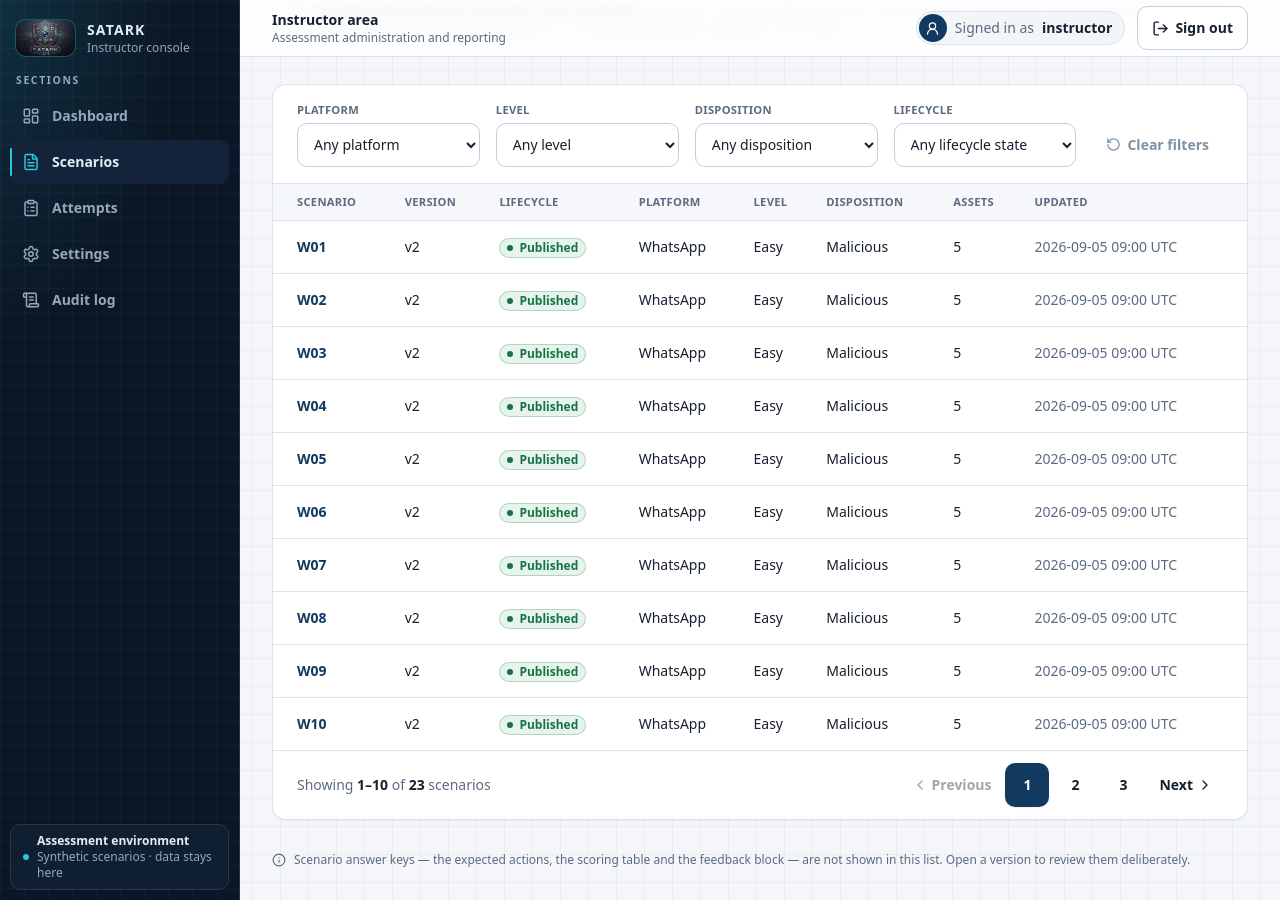
Test: scenarios › moves by number and by Next, and stops at the last page
The width and height of the screenshot is (1280, 900).
(page scrolled)
Expected: the table is shown, [273,184,1247,750]
Click the button named "Page 2" at (1076, 785), box [1054,763,1098,807]
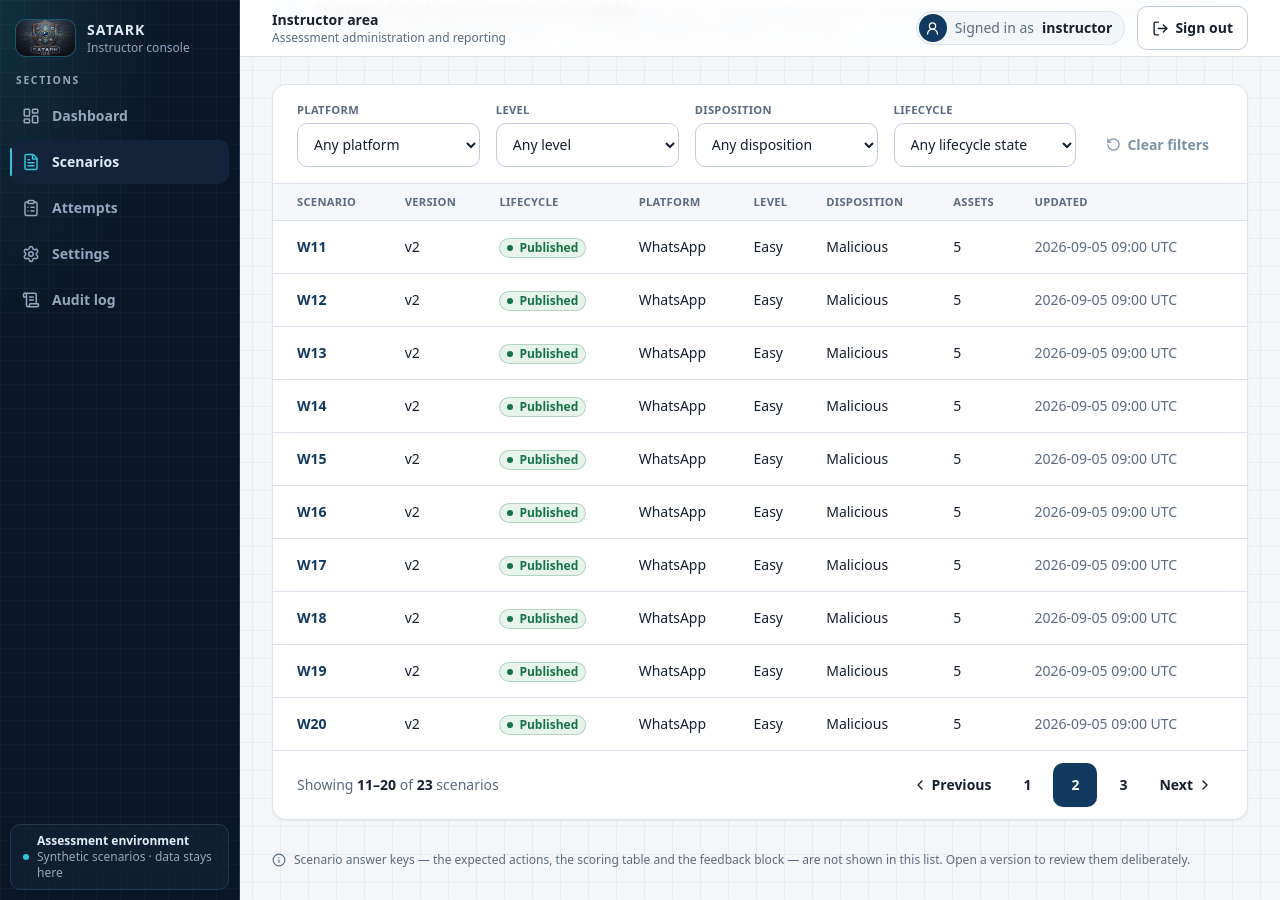
Expected: the text "Showing 11–20 of 23 scenarios" is shown, [297,775,499,795]
Click the button with aria-label "Next page" at (1186, 785), box [1150,763,1223,807]
(page scrolled)
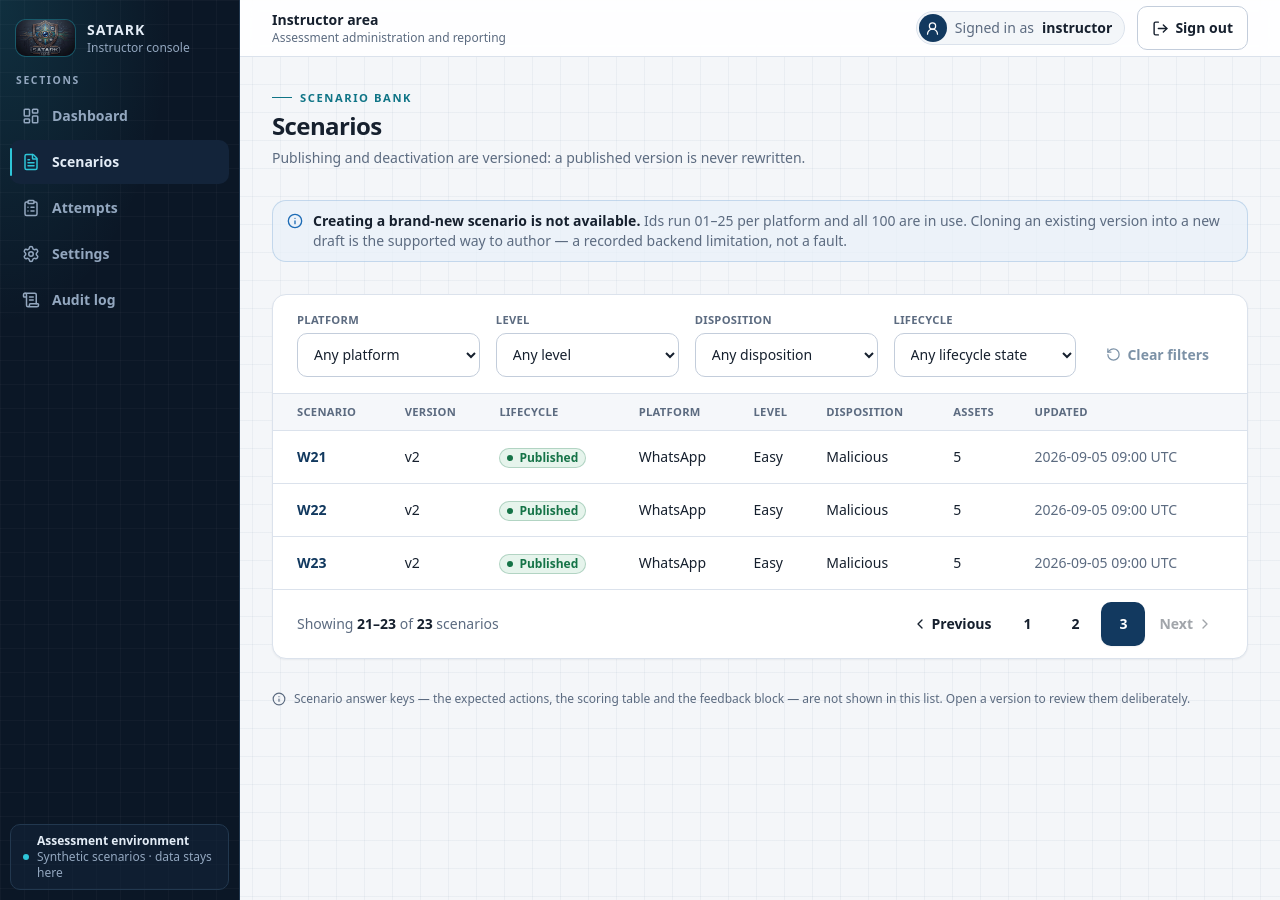
Expected: the number of rows is 4, [273,394,1247,431]; [273,431,1247,484]; [273,484,1247,537]; [273,537,1247,589]
Expected: the text "Showing 21–23 of 23 scenarios" is shown, [297,614,499,634]
Expected: the button with aria-label "Next page" is disabled, [1150,602,1223,646]
